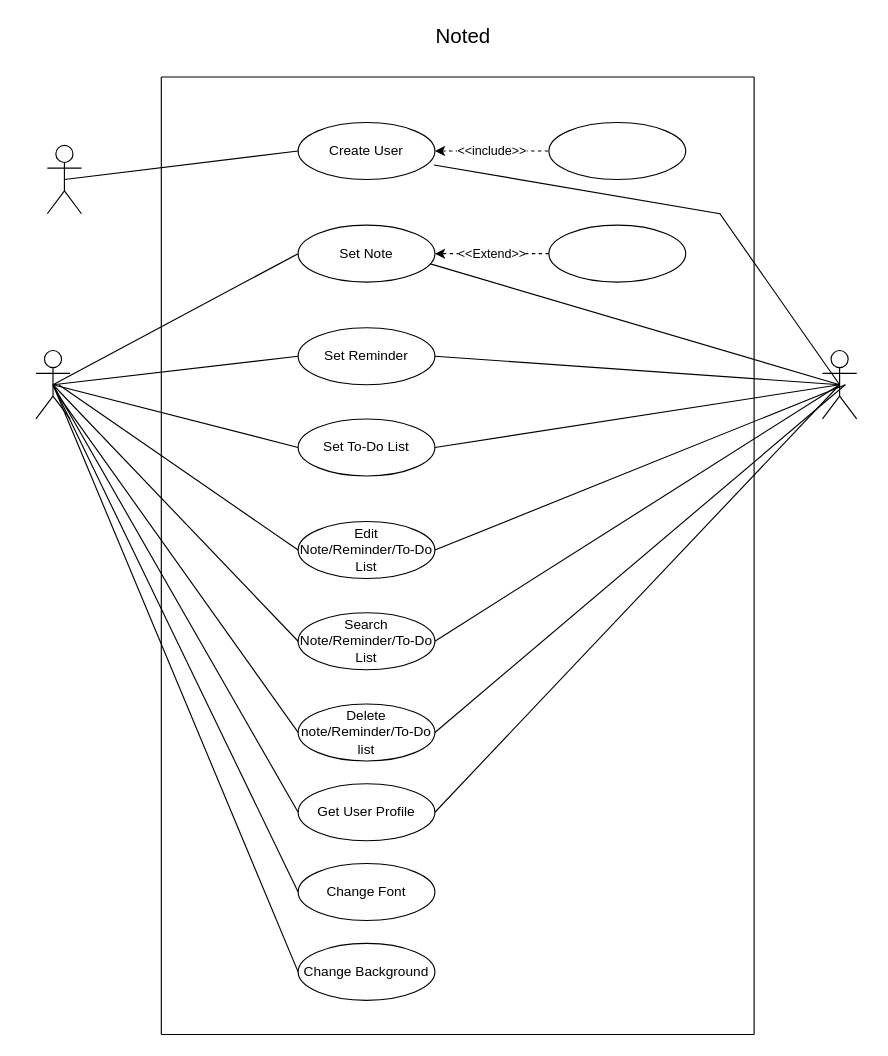
This 888x1056 diagram has some shape labels left out. Each missing label, with the centre of its shape:
"Database" goes at point 839,384.
"Lock Notes" goes at point 617,253.
"Registered User" goes at point 52,384.
"Unregistered User" goes at point 64,179.
"Verify User Info" goes at point 617,150.
